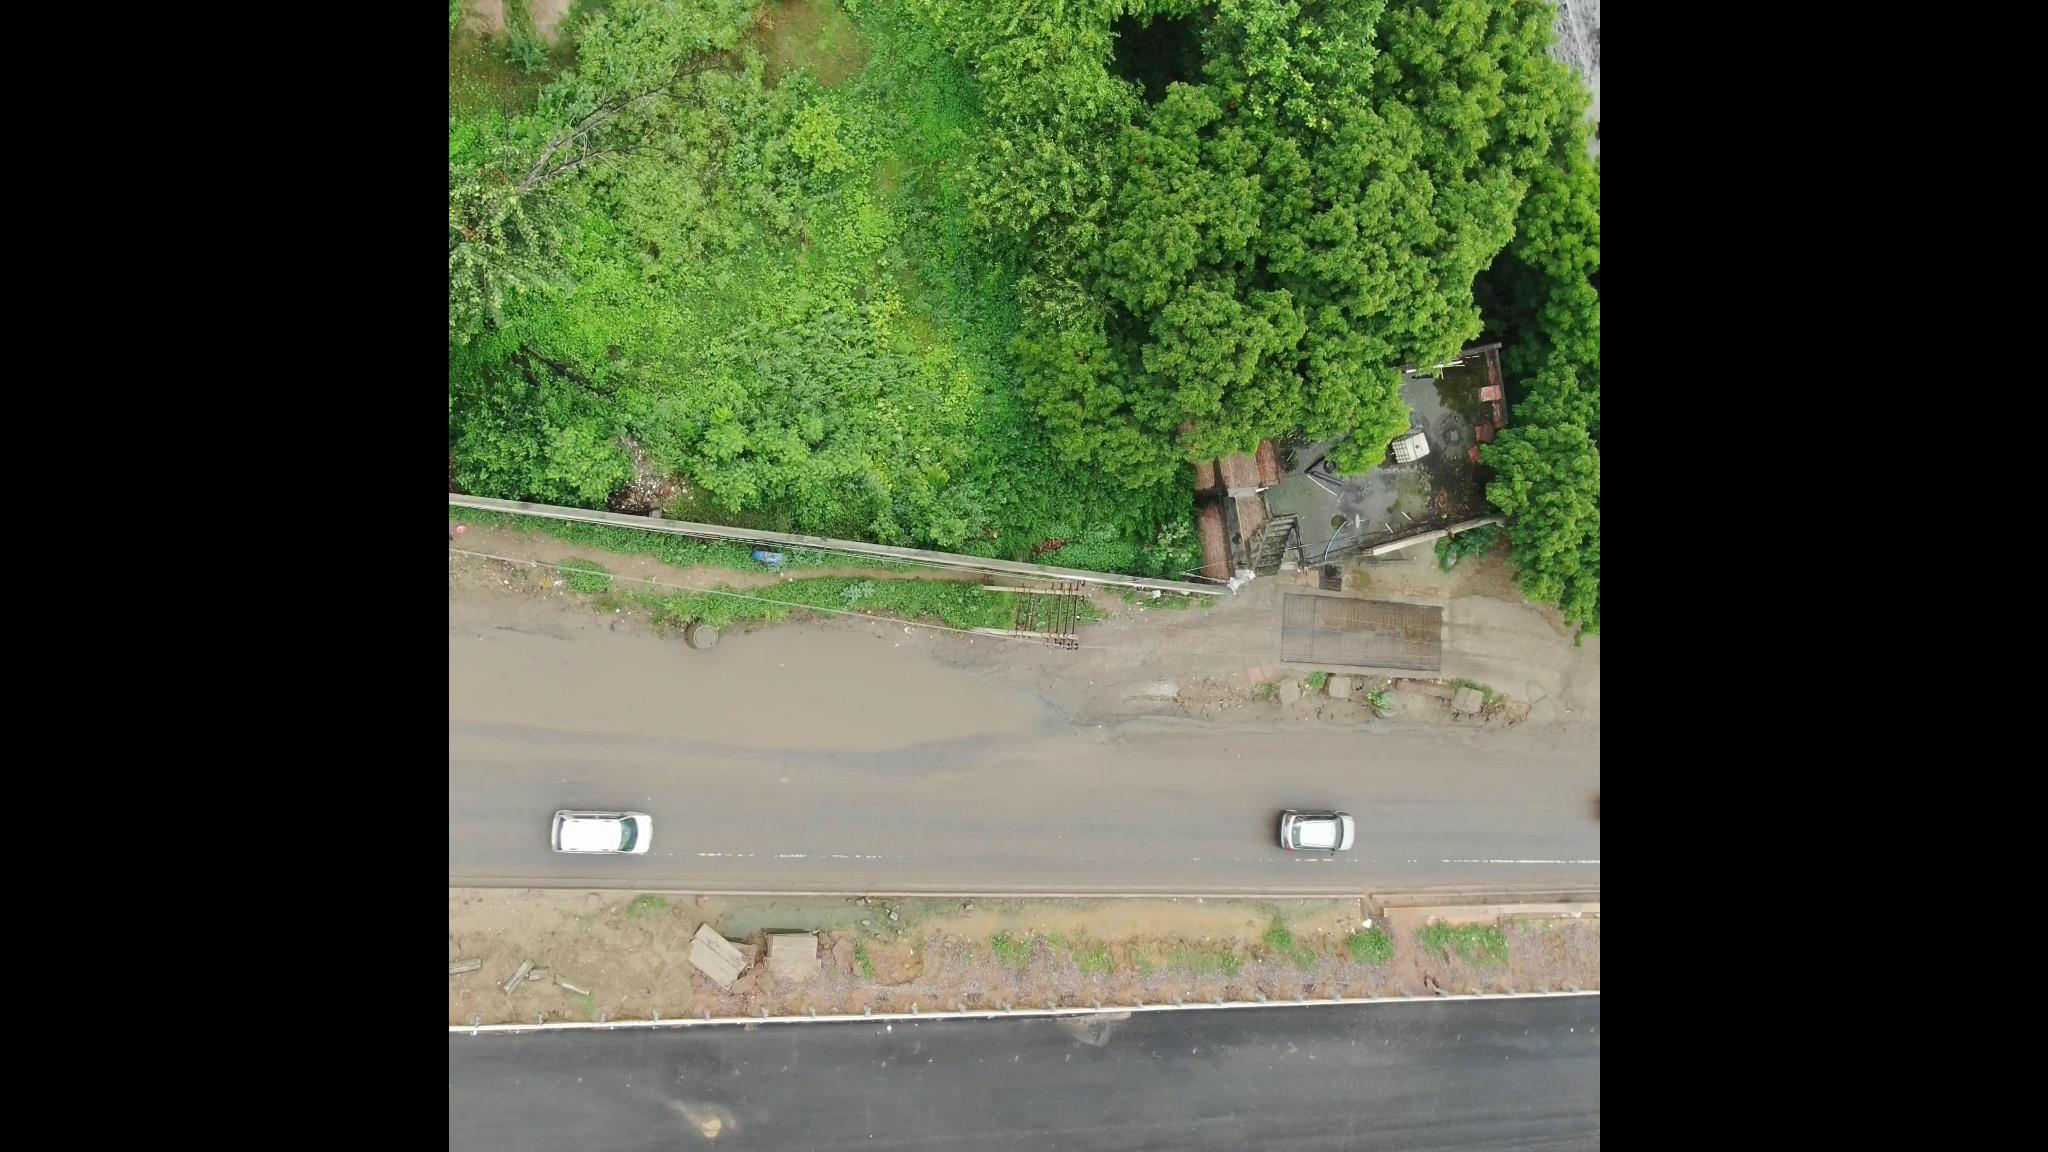Waterlogging: (453, 612, 1075, 775)
